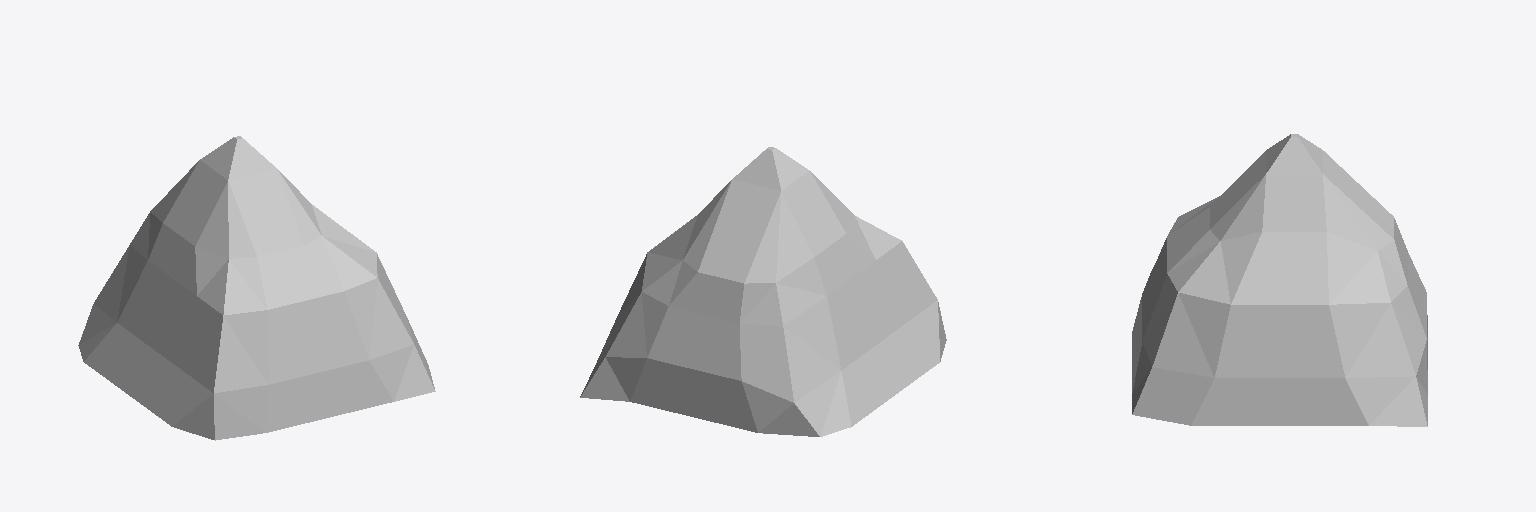
The model's file is montanaGrande.obj.
The picture shows the model from 3 angles: view 1: azimuth 30°, elevation 25°; view 2: azimuth 150°, elevation 25°; view 3: azimuth 270°, elevation 25°; orthographic projection.
Visible parts, largest first — view 1: MontanaGrande_Cube.012; view 2: MontanaGrande_Cube.012; view 3: MontanaGrande_Cube.012.
Part boxes in pixels (x1,y1,x2,y2): MontanaGrande_Cube.012: (78, 136, 435, 440); MontanaGrande_Cube.012: (580, 147, 946, 436); MontanaGrande_Cube.012: (1132, 134, 1427, 426).
Size of the model in its own units: 15.55 by 13.4 by 15.55.